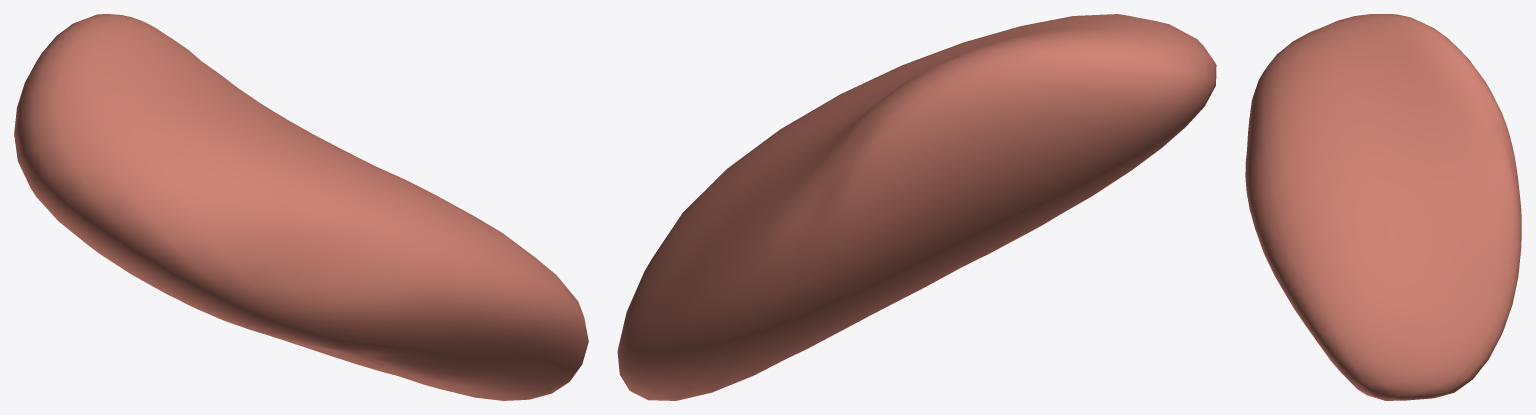
The picture shows the model from 3 angles, left to right: view 1: azimuth 30°, elevation 25°; view 2: azimuth 150°, elevation 25°; view 3: azimuth 270°, elevation 25°; orthographic projection. The views are drawn at different scales.
Parts seen in each view (by area): view 1: 左侧梨状肌囊; view 2: 左侧梨状肌囊; view 3: 左侧梨状肌囊.
Boxes of the visible parts, bbox=[...] form: 左侧梨状肌囊: bbox=[14, 14, 588, 400]; 左侧梨状肌囊: bbox=[617, 14, 1216, 400]; 左侧梨状肌囊: bbox=[1245, 14, 1521, 400].
Bounding box in the file's own units: 0.0159 × 0.0122 × 0.0117.
